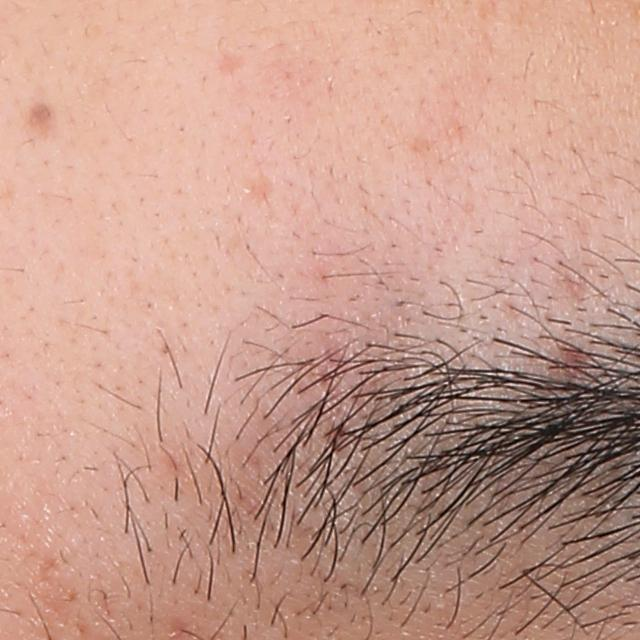atrophic_scar: (211, 47, 252, 80), (244, 176, 279, 206)
nevus: (25, 100, 55, 137)
